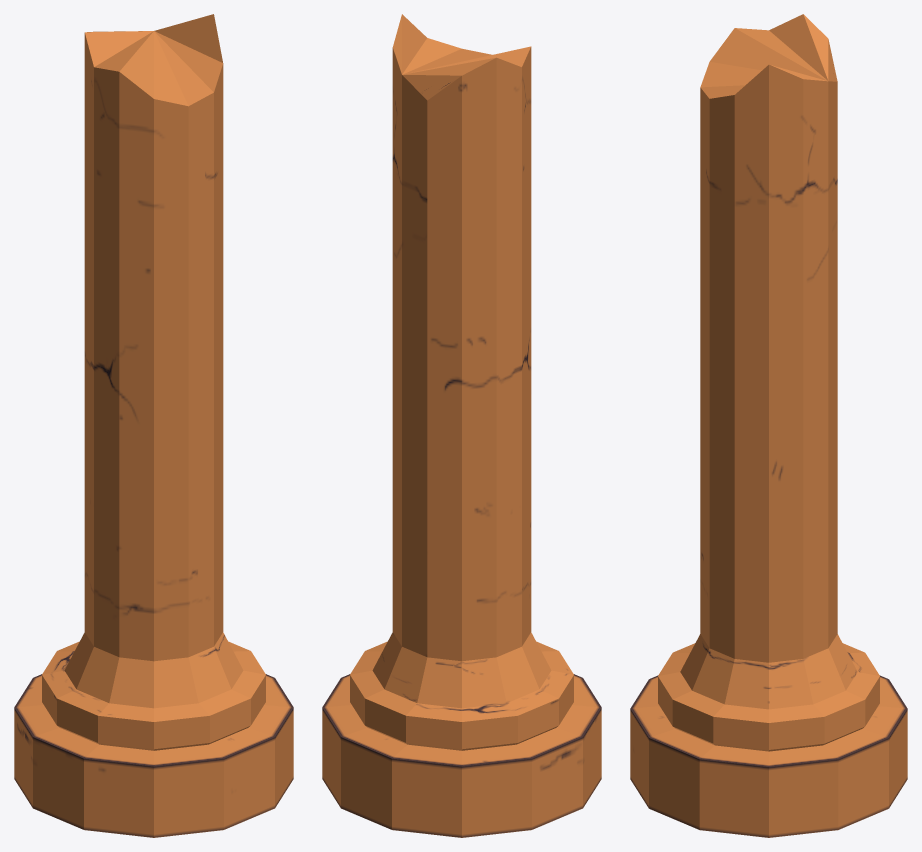
Rendered from BrokenPillar_Bottom2.fbx.
3 renders of one model, left to right at view 1: azimuth 30°, elevation 25°; view 2: azimuth 150°, elevation 25°; view 3: azimuth 270°, elevation 25°, orthographic.
Visible parts, largest first — view 1: Broken_Bottom_2; view 2: Broken_Bottom_2; view 3: Broken_Bottom_2.
Part boxes in pixels (x1,y1,x2,y2): Broken_Bottom_2: (14, 14, 293, 837); Broken_Bottom_2: (322, 14, 601, 837); Broken_Bottom_2: (630, 14, 907, 837).
Bounding box in the file's own units: 404 × 404 × 1196.
